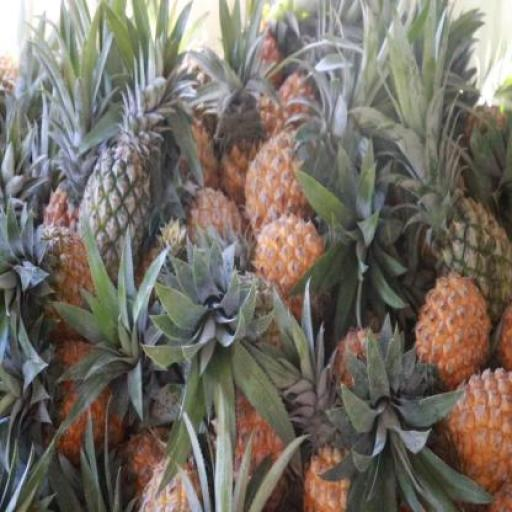Pineapple - v8 v1: (415, 278, 491, 393), (443, 368, 511, 494), (243, 142, 315, 244), (254, 219, 326, 307)
